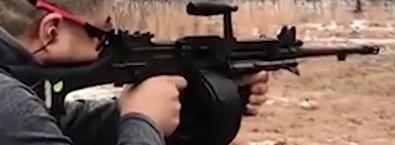gun: (1, 1, 395, 145)
